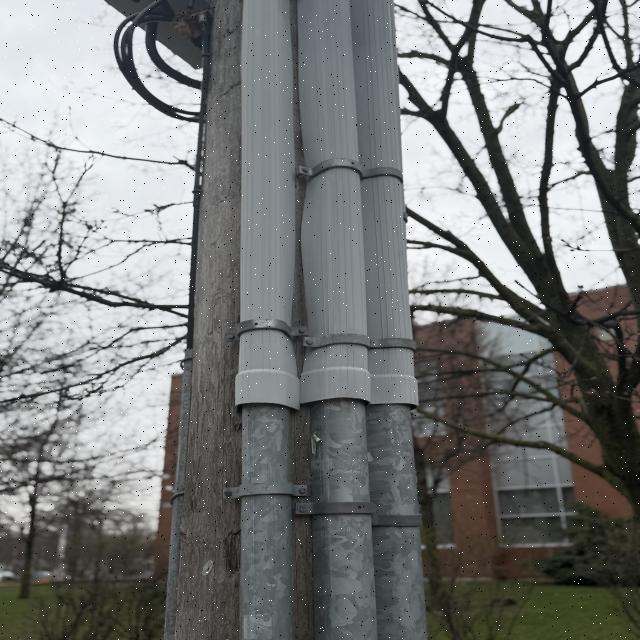Electrical Pole: (102, 1, 426, 640)
